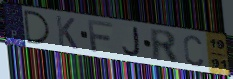C: (182, 34, 205, 68)
D: (22, 9, 53, 46)
F: (86, 19, 115, 54)
J: (121, 26, 143, 58)
K: (54, 14, 80, 51)
R: (148, 27, 182, 66)
